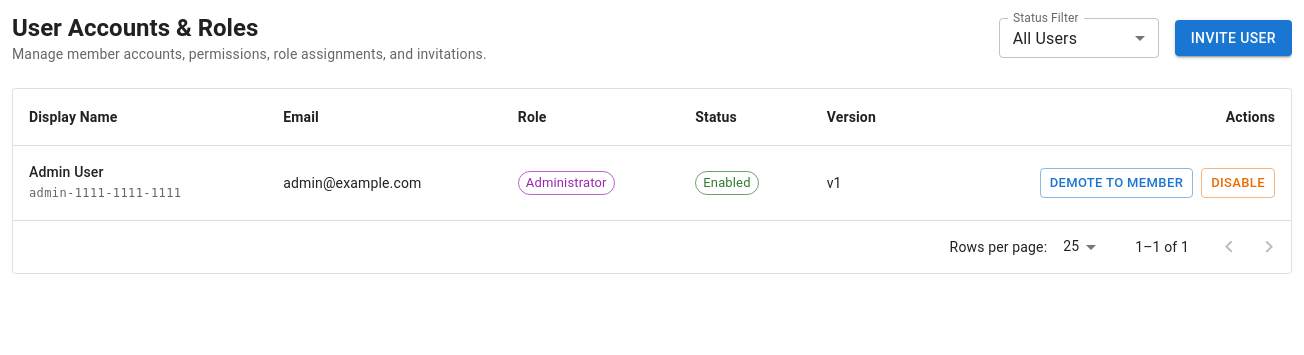
Scenario: Admin Users & Roles (Spec 7.1, 4.2 E27-E29) › UserTable rejects LAST_ADMIN rejection accurately and keeps previous role visible
Expected: the text "Admin User" is shown, [29, 164, 104, 180]
Expected: the text "Administrator" is shown, [519, 174, 614, 192]
Try demoting the last admin
Click the button with aria-label "Change role for Admin User" at x=1116, y=183, box [1040, 168, 1193, 198]
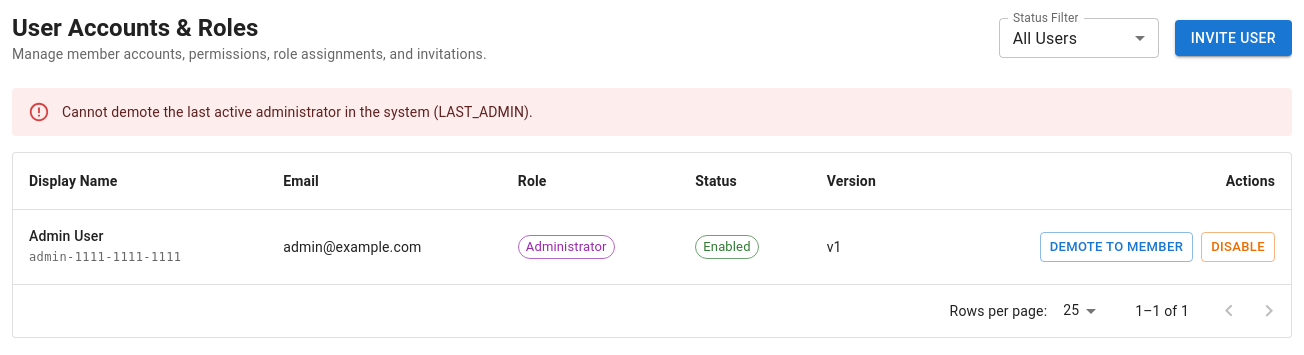
Expected: the text "Administrator" is shown, [519, 238, 614, 256]
Result: the message "Cannot demote the last active administrator in the system (LAST_ADMIN)." is shown at [12, 88, 1292, 136]
Result: the text "Cannot demote the last active administrator" is shown at [62, 104, 533, 120]
